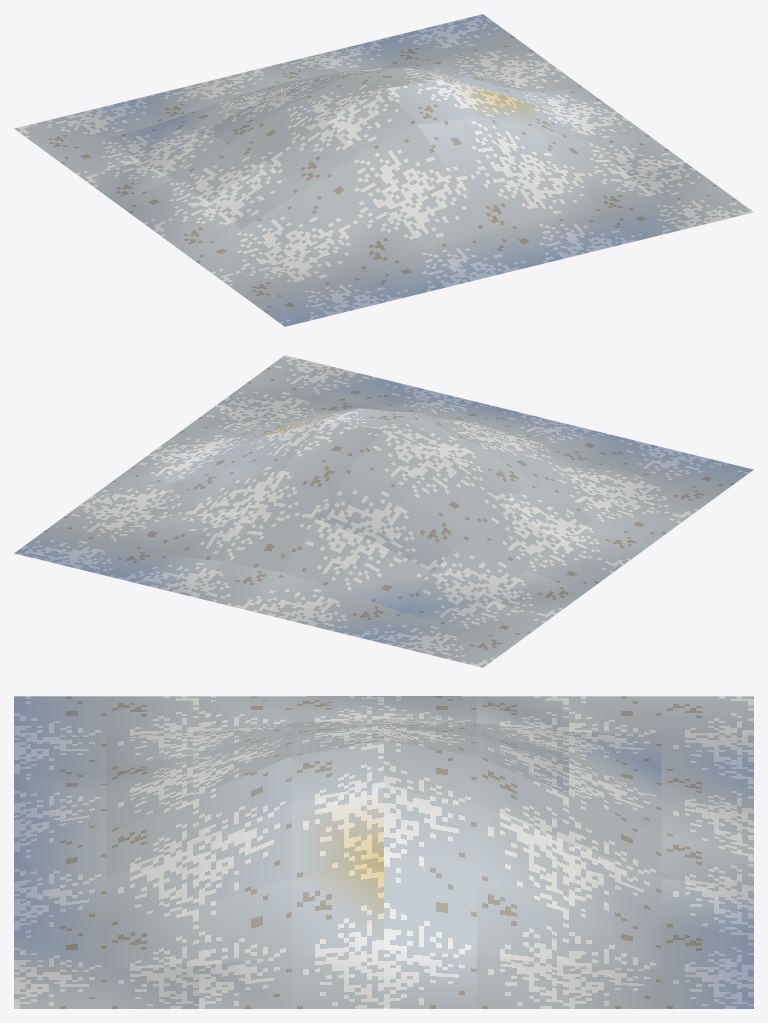
The model's file is mter.hill__low.glb.
3 views of the same model, one above another, from view 1: azimuth 30°, elevation 25°; view 2: azimuth 150°, elevation 25°; view 3: azimuth 270°, elevation 25° (orthographic). The views are drawn at different scales.
Parts seen in each view (by area): view 1: kit_shell_hill; view 2: kit_shell_hill; view 3: kit_shell_hill.
Part boxes in pixels (x1=…): kit_shell_hill: x1=14, y1=14, x2=753, y2=326; kit_shell_hill: x1=14, y1=355, x2=753, y2=667; kit_shell_hill: x1=14, y1=696, x2=753, y2=1008.
Bounding box in the file's own units: 12 × 2 × 12.
1 material, 1 textured.
